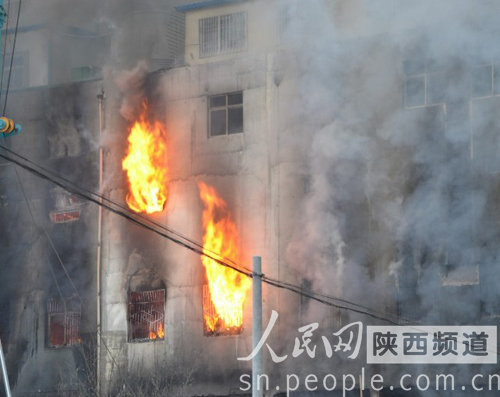fire: (197, 176, 253, 329), (117, 90, 178, 211)
